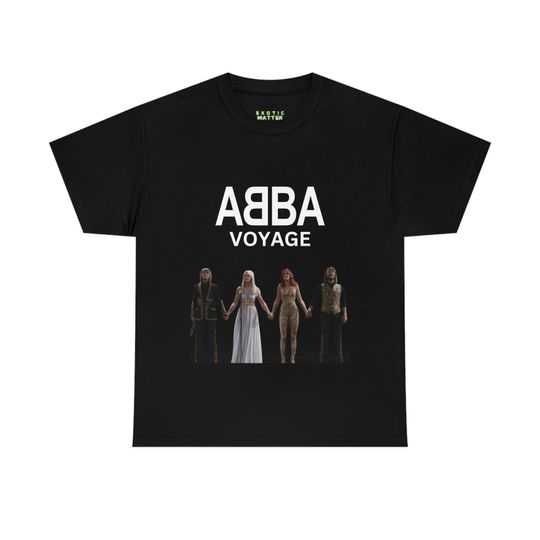design: (184, 182, 351, 367)
